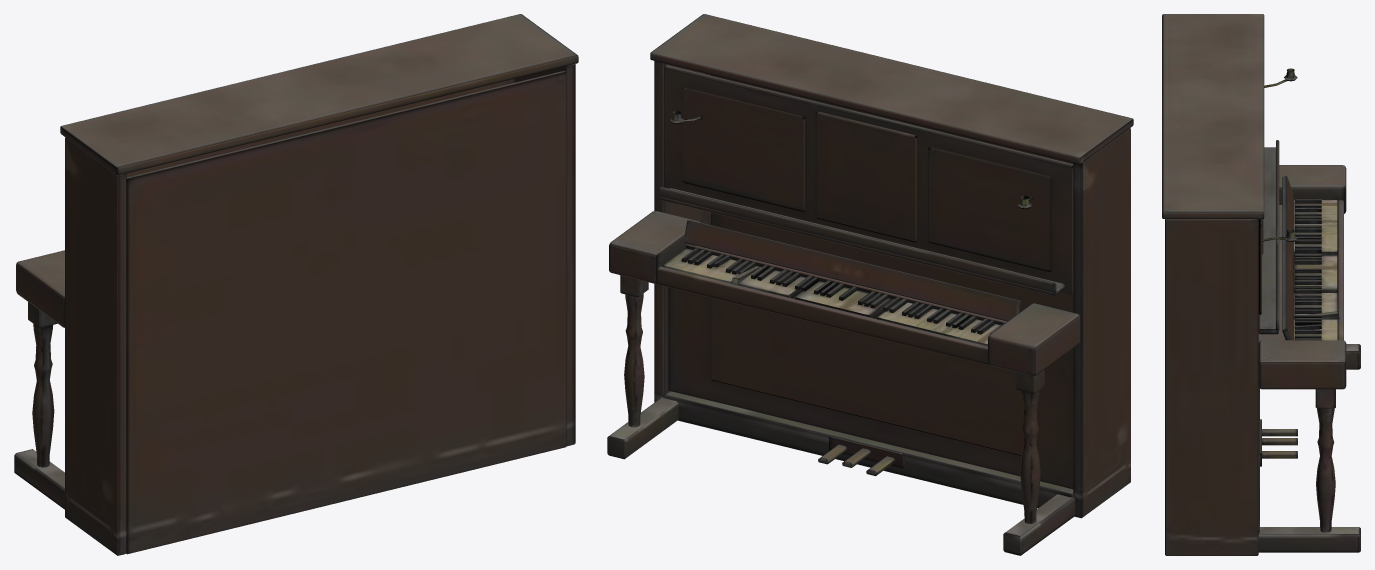
The model's file is furniture_piano.glb.
The picture shows the model from 3 angles, left to right: view 1: azimuth 30°, elevation 25°; view 2: azimuth 150°, elevation 25°; view 3: azimuth 270°, elevation 25°; orthographic projection. The views are drawn at different scales.
Parts seen in each view (by area): view 1: furniture_piano; view 2: furniture_piano; view 3: furniture_piano.
Part boxes in pixels (<box>): furniture_piano: <box>14,14,578,555</box>; furniture_piano: <box>607,14,1133,555</box>; furniture_piano: <box>1162,14,1360,555</box>.
Bounding box in the file's own units: 1.61 × 1.3 × 0.68.
1 material, 1 textured.
